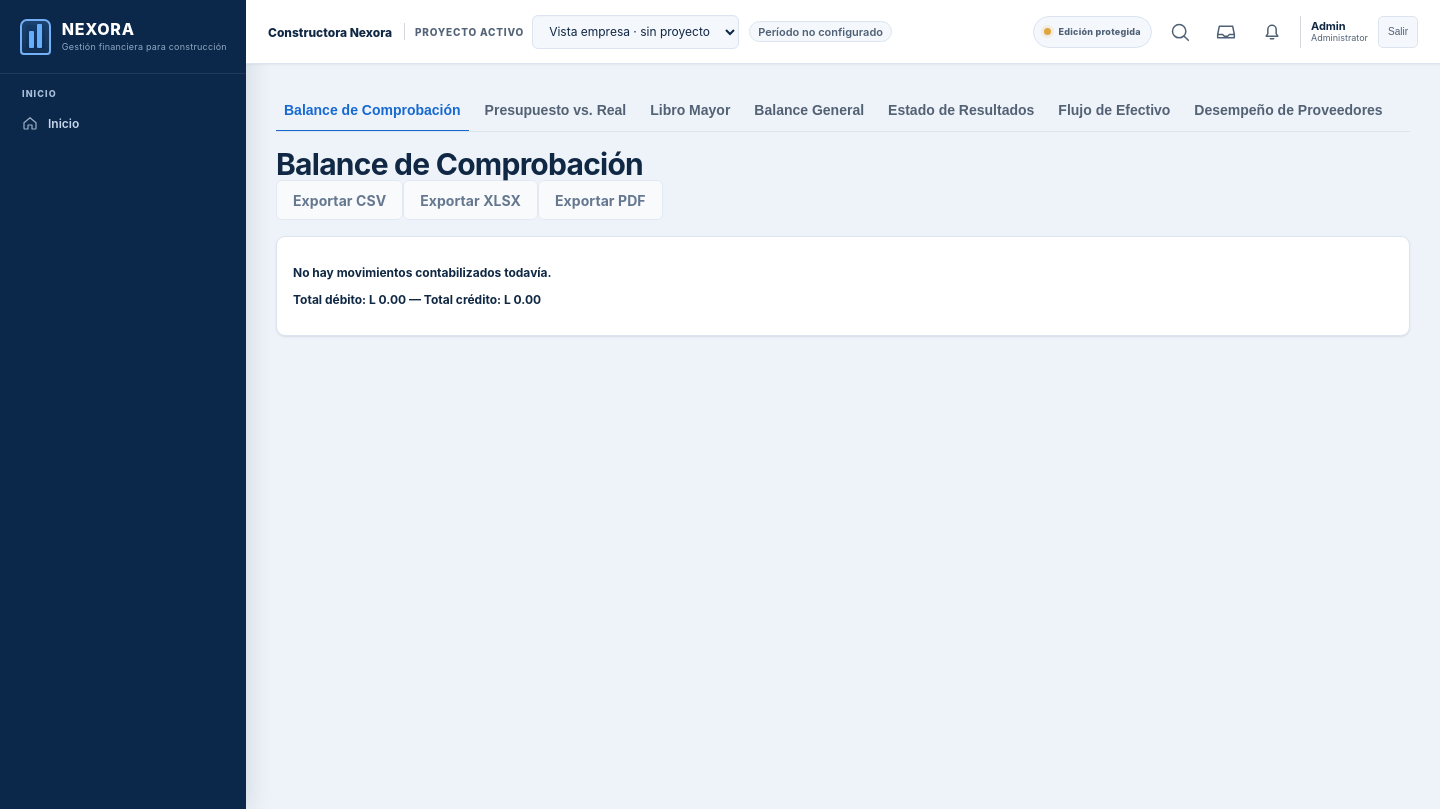
Test: BalanceSheetPage › renders the balance-sheet equation from the real API response
The image size is (1440, 809).
Step 1. Click the tab "Balance General" → (809, 111), box [746,90,872,132]
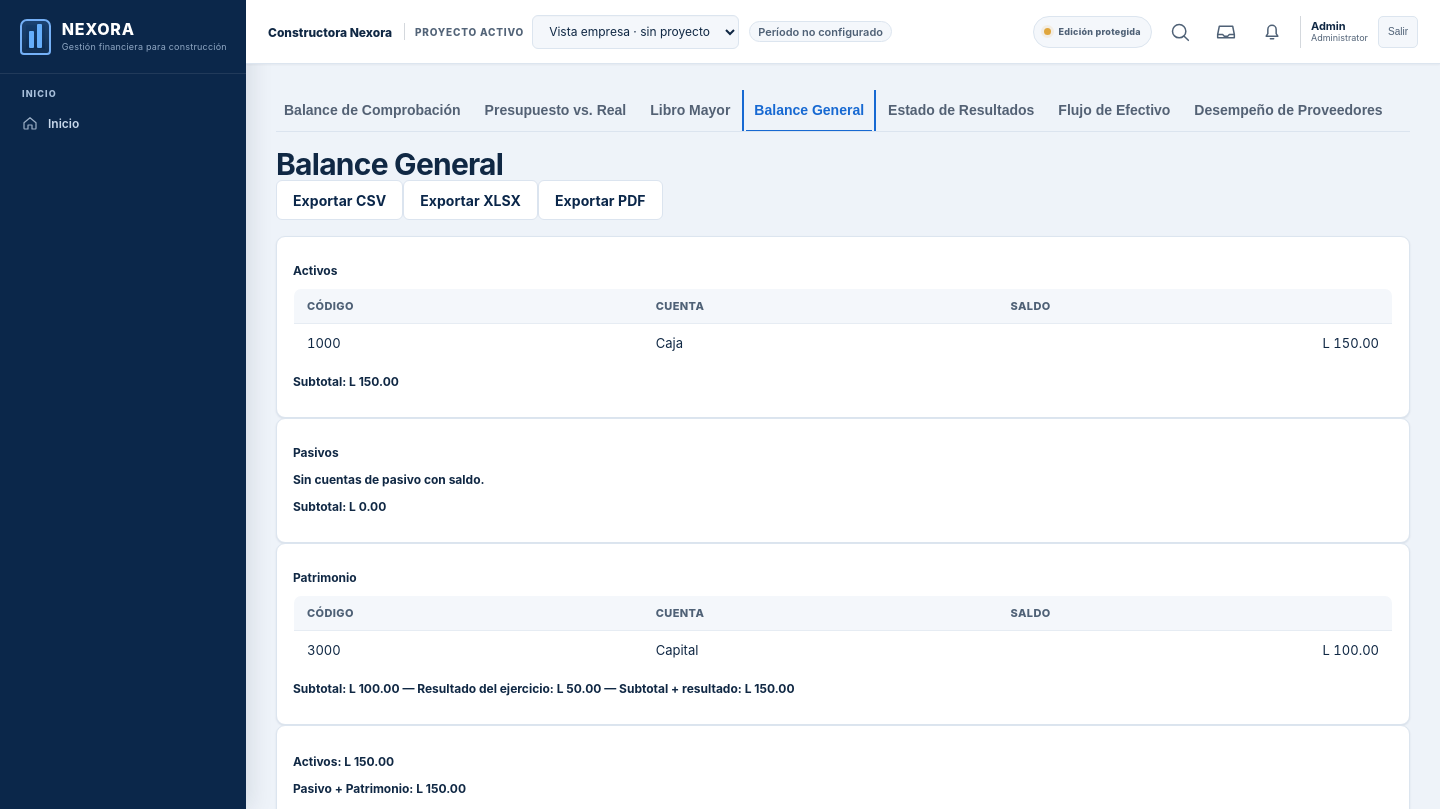
Expected: the text "Caja" is shown, [643,324,998,362]
Expected: the text "Capital" is shown, [643,631,998,669]
Expected: the text "Activos: L 150.00" is shown, [293,754,394,769]
